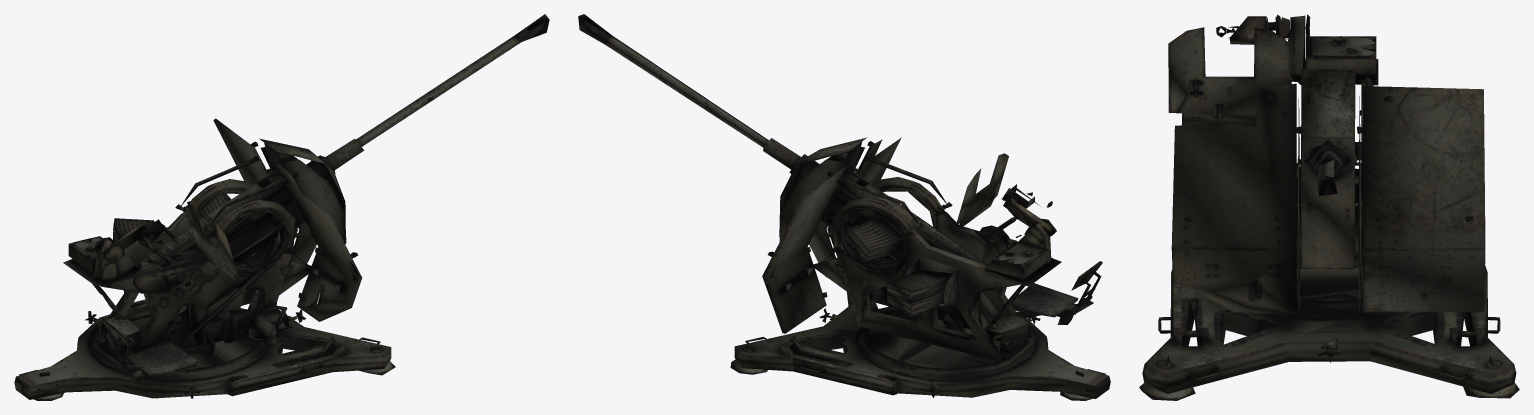
File: flak38.obj
The picture shows the model from 3 angles, left to right: view 1: azimuth 30°, elevation 25°; view 2: azimuth 150°, elevation 25°; view 3: azimuth 270°, elevation 25°; orthographic projection. The views are drawn at different scales.
Parts seen in each view (by area): view 1: ger_flak38_animated_reference; view 2: ger_flak38_animated_reference; view 3: ger_flak38_animated_reference.
Part boxes in pixels (bbox=[...]): ger_flak38_animated_reference: bbox=[14, 14, 549, 400]; ger_flak38_animated_reference: bbox=[578, 14, 1110, 400]; ger_flak38_animated_reference: bbox=[1139, 14, 1519, 400].
Bounding box in the file's own units: 13.1 × 6.11 × 5.66.
